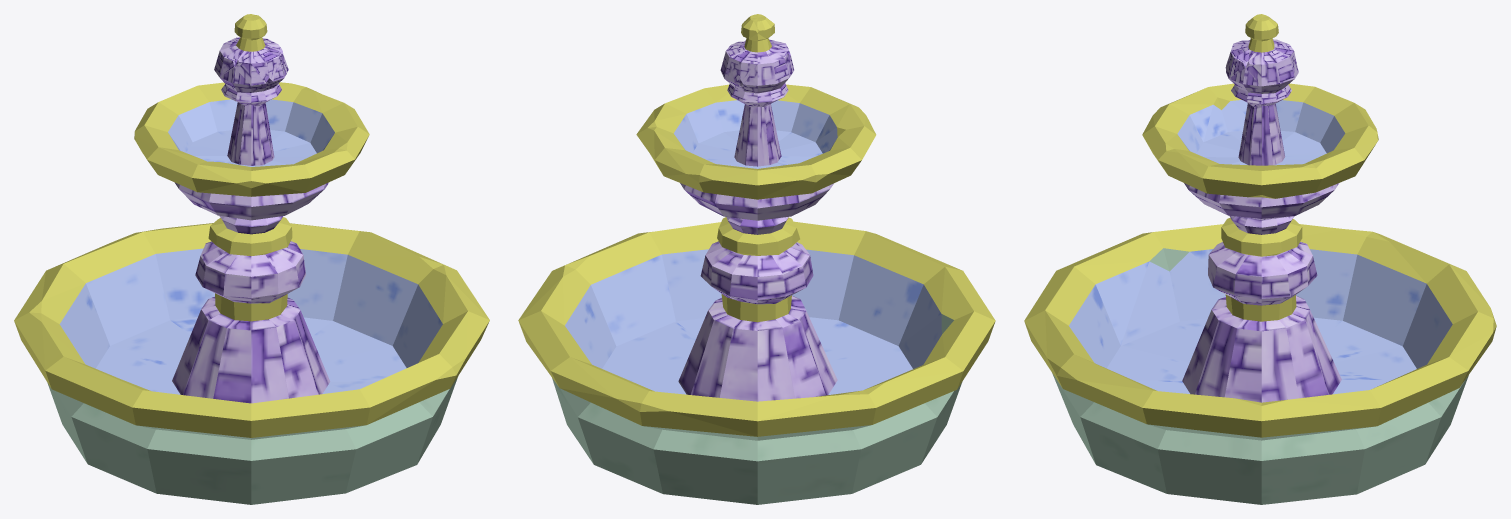
File: Fountain_01.fbx
The picture shows the model from 3 angles, left to right: view 1: azimuth 30°, elevation 25°; view 2: azimuth 150°, elevation 25°; view 3: azimuth 270°, elevation 25°; orthographic projection.
Visible parts, largest first — view 1: SM_Prop_Fountain_01; view 2: SM_Prop_Fountain_01; view 3: SM_Prop_Fountain_01.
Part boxes in pixels (x1,y1,x2,y2): SM_Prop_Fountain_01: [14, 14, 489, 504]; SM_Prop_Fountain_01: [518, 14, 995, 504]; SM_Prop_Fountain_01: [1024, 14, 1496, 504].
Size of the model in its own units: 160 by 152 by 160.
